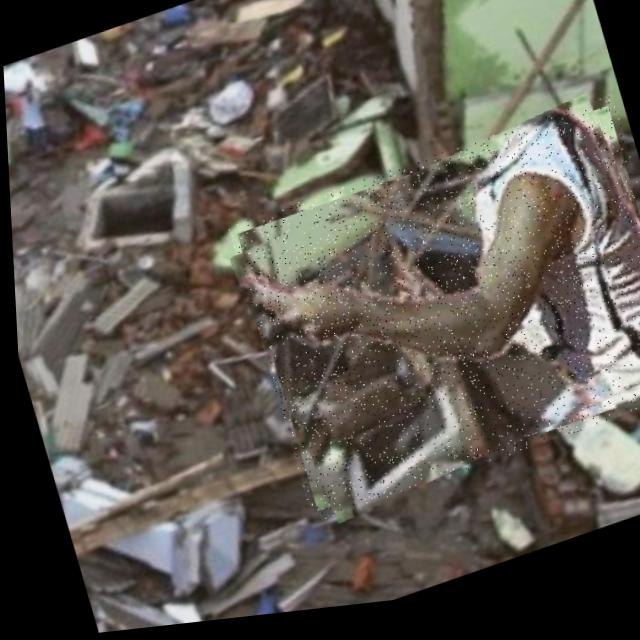Person in Rubble: (221, 104, 640, 535)
